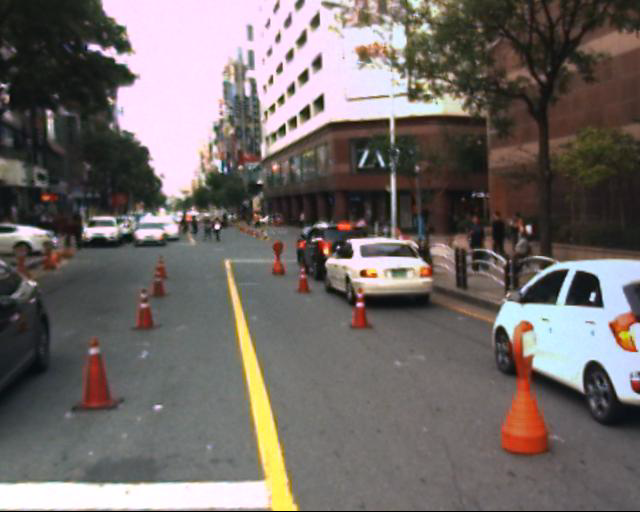person: (10, 194, 88, 241), (500, 215, 540, 280), (504, 206, 536, 269), (464, 210, 490, 282), (191, 207, 232, 249), (487, 202, 511, 273)
